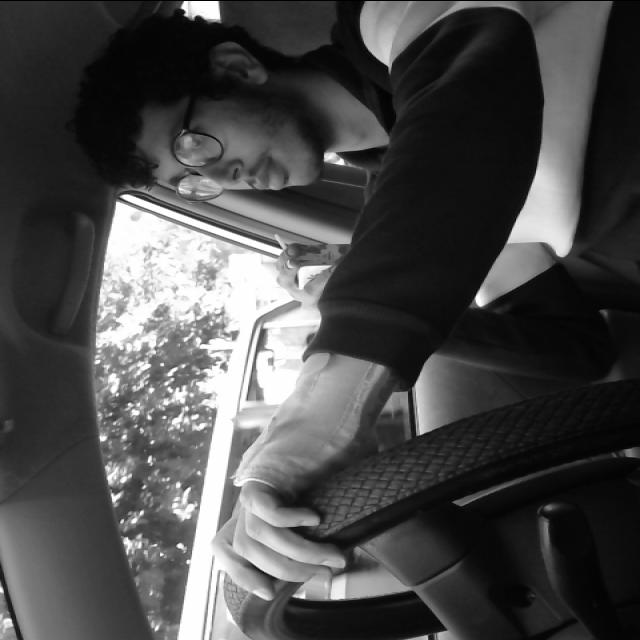drinking: (272, 229, 432, 295)
